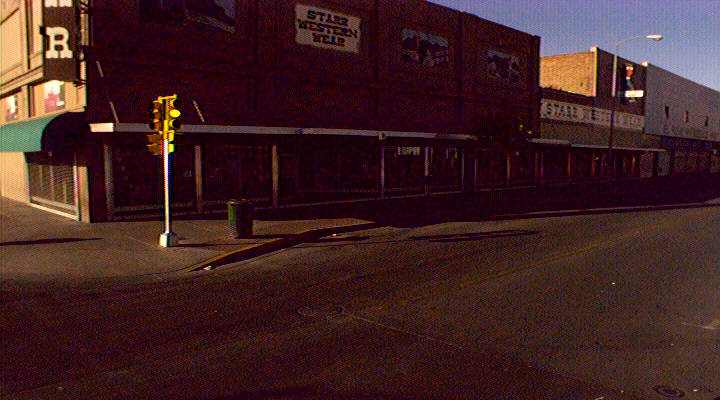Ramp: (1, 237, 230, 291)
